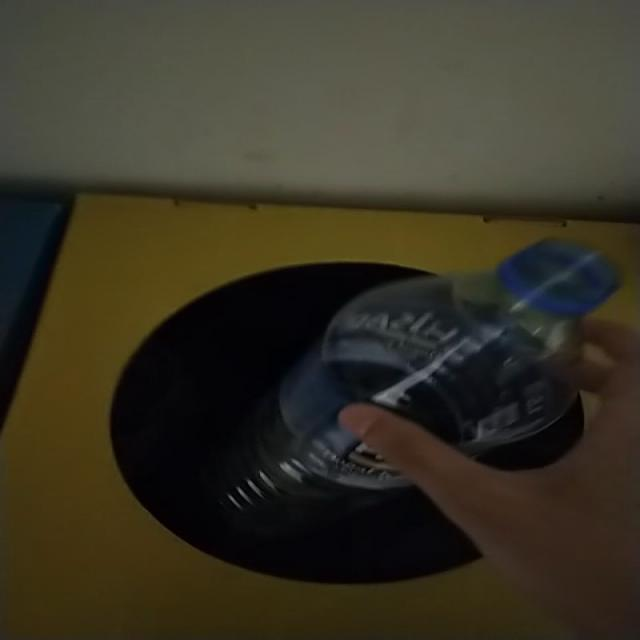plastic: (223, 241, 623, 533)
